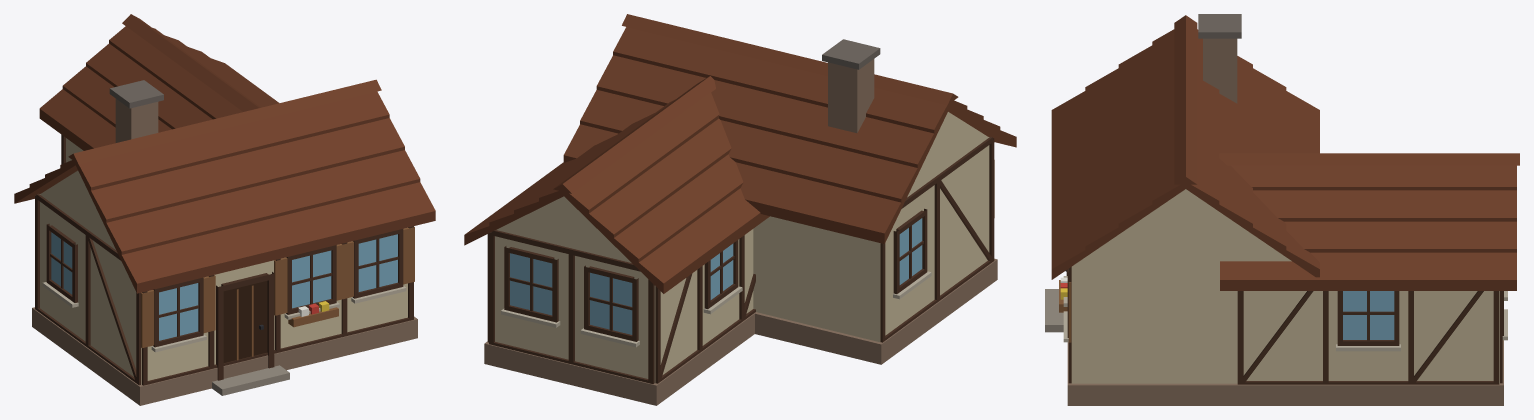
File: house_05_l_shaped.fbx
3 renders of one model, left to right at view 1: azimuth 30°, elevation 25°; view 2: azimuth 150°, elevation 25°; view 3: azimuth 270°, elevation 25°, orthographic. The views are drawn at different scales.
Parts seen in each view (by area): view 1: house_05_l_shaped; view 2: house_05_l_shaped; view 3: house_05_l_shaped.
Boxes of the visible parts, x1,y1,x2,y2 form: house_05_l_shaped: (14, 14, 435, 405); house_05_l_shaped: (464, 14, 1016, 405); house_05_l_shaped: (1045, 14, 1519, 405).
Bounding box in the file's own units: 6.7 × 5.22 × 8.32.
